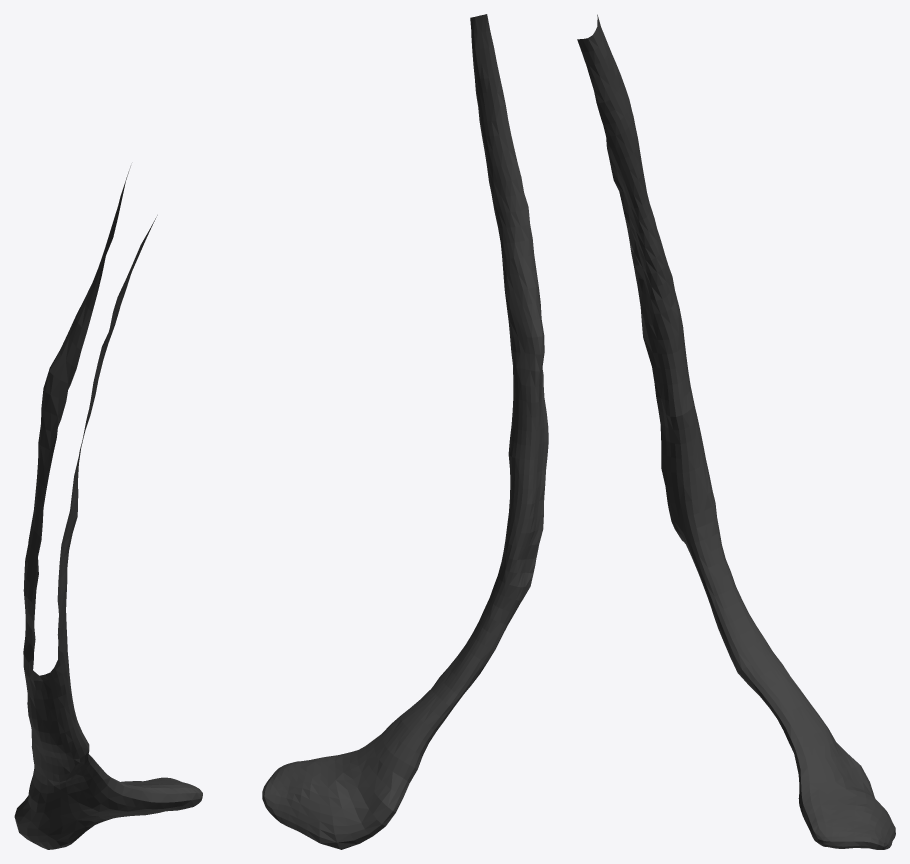
Rendered from eq_dist_limb_Digital_Vein.glb.
3 renders of one model, left to right at view 1: azimuth 30°, elevation 25°; view 2: azimuth 150°, elevation 25°; view 3: azimuth 270°, elevation 25°, orthographic. The views are drawn at different scales.
Visible parts, largest first — view 1: eq_dist_limb_Digital_Vein; view 2: eq_dist_limb_Digital_Vein; view 3: eq_dist_limb_Digital_Vein.
Boxes of the visible parts, box(x1,y1,x2,y2) form: eq_dist_limb_Digital_Vein: box(14, 166, 202, 849); eq_dist_limb_Digital_Vein: box(262, 14, 548, 849); eq_dist_limb_Digital_Vein: box(577, 14, 895, 849).
Bounding box in the file's own units: 0.0037 × 0.0133 × 0.00472.
1 material, 1 textured.
